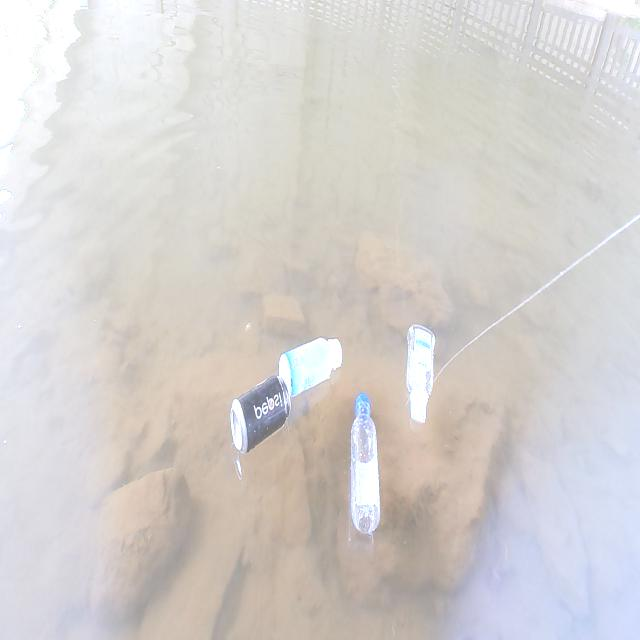bottle: (336, 389, 386, 540), (392, 323, 444, 428), (276, 328, 346, 400)
